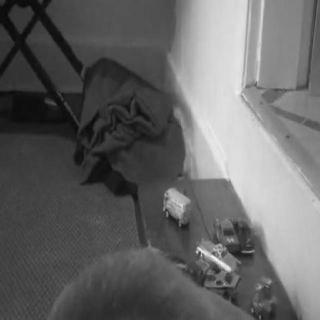other: (198, 231, 244, 295)
